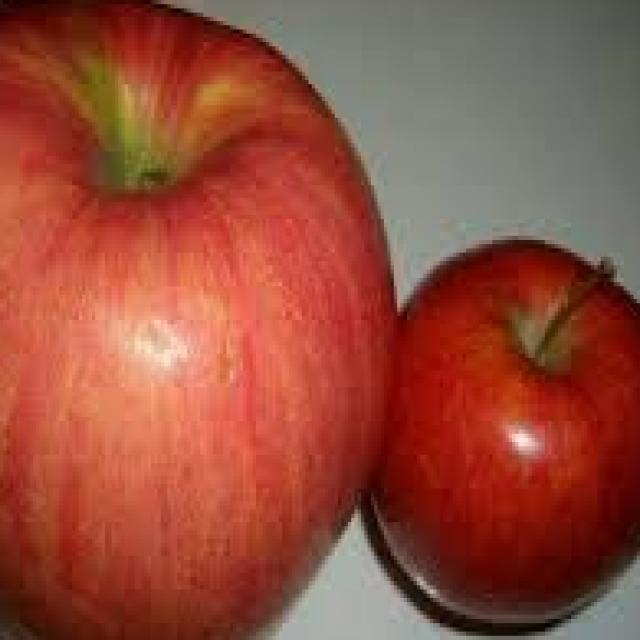inorganic: (10, 74, 409, 624), (394, 212, 633, 622)
